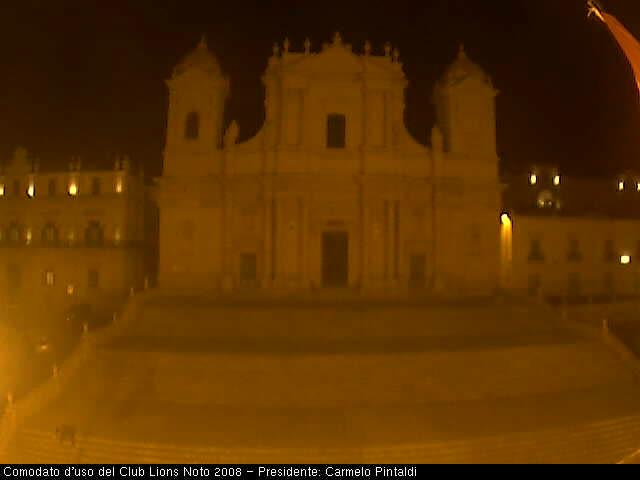person: (53, 415, 81, 445)
